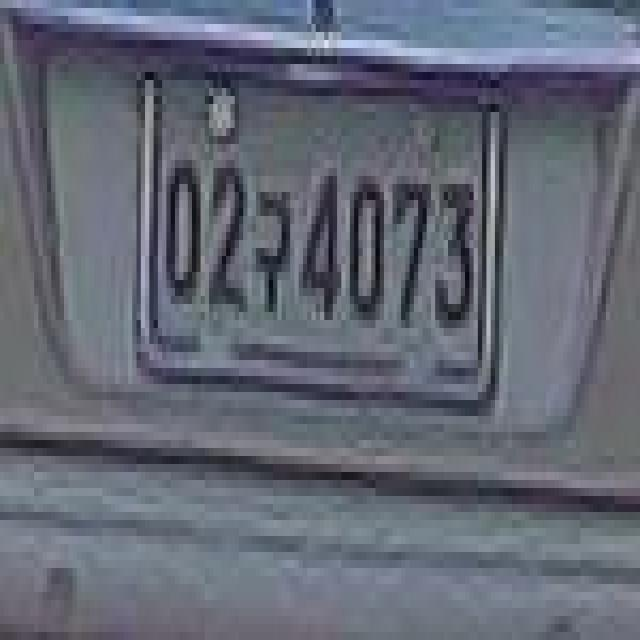illegal_plate: (132, 62, 509, 412)
